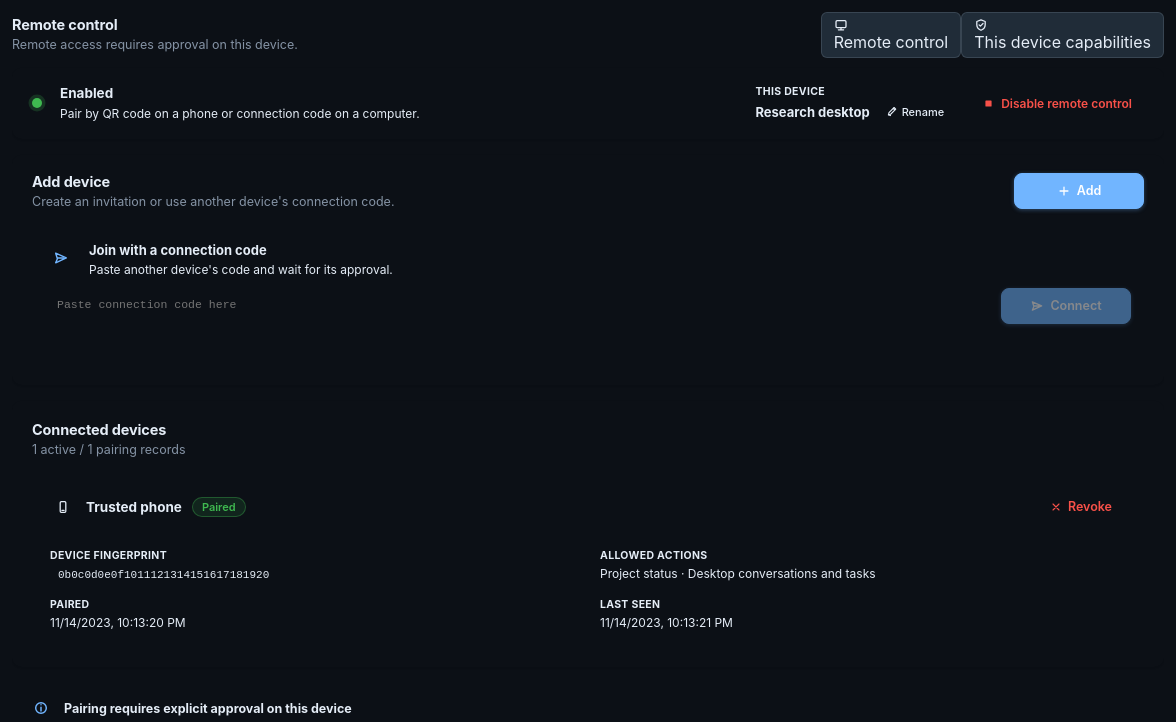
Test: RemoteControlPanel › provides tabs to switch between remote control and local capabilities
Expected: the button "Add" is shown, [1014,173,1144,209]
Expected: the field labelled "Maximum parallel jobs" is not shown
# Switch to local capabilities tab
Click the tab "This device capabilities" at [1063, 35], box [961,12,1164,58]
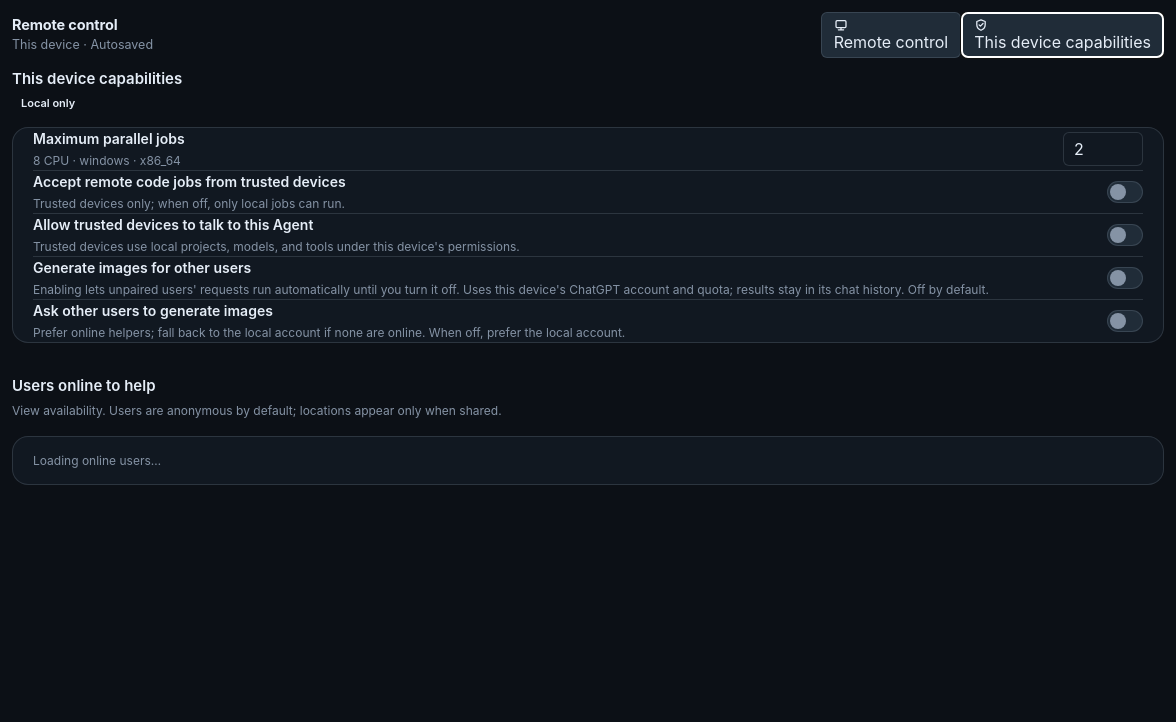
Expected: the number field named "Maximum parallel jobs" is shown, [1063,132,1143,166]
Expected: the text "Add" is gone
# Switch back to remote control tab
Click the tab "Remote control" at [891, 35], box [821,12,961,58]
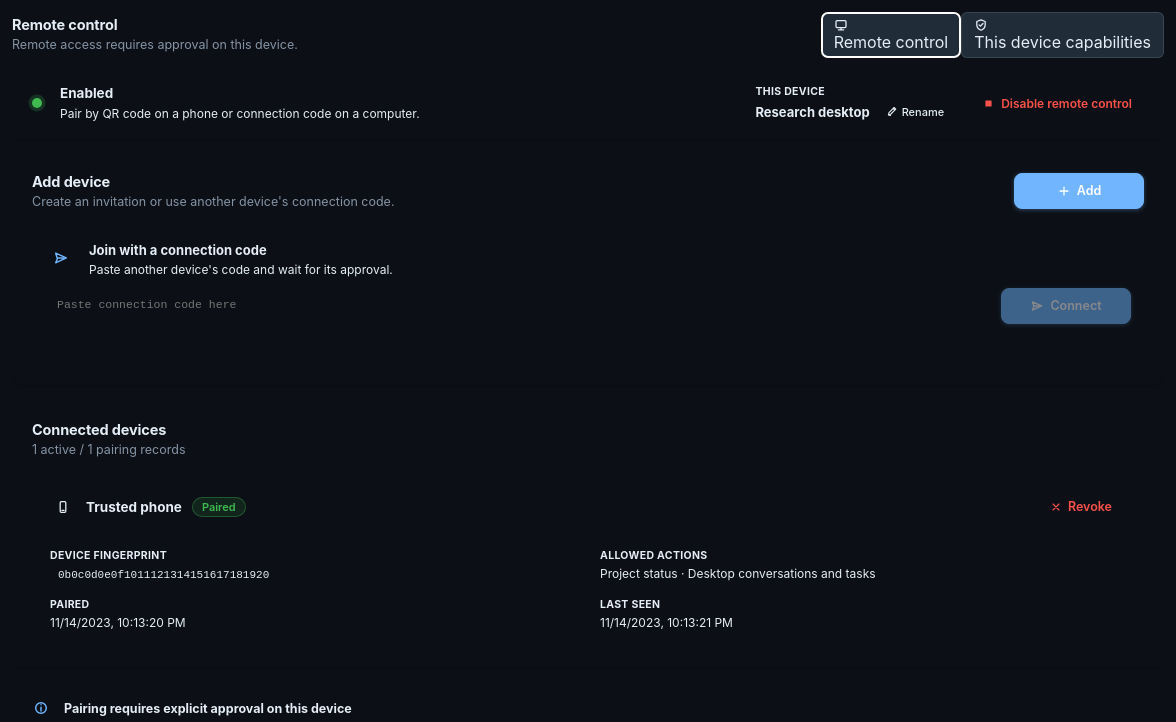
Expected: the button "Add" is shown, [1014,173,1144,209]
